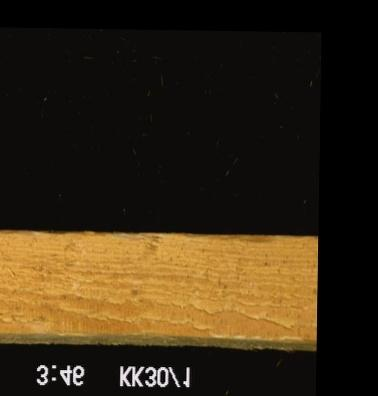wave: (176, 233, 277, 250)
